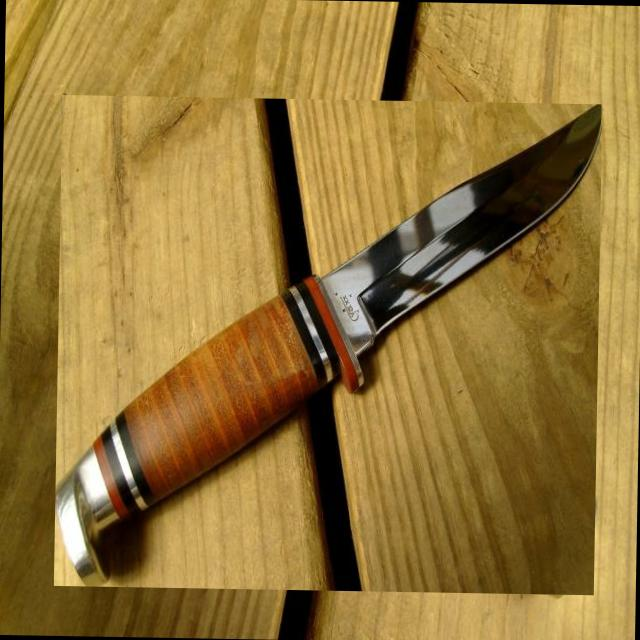Knife: (56, 105, 602, 586)
